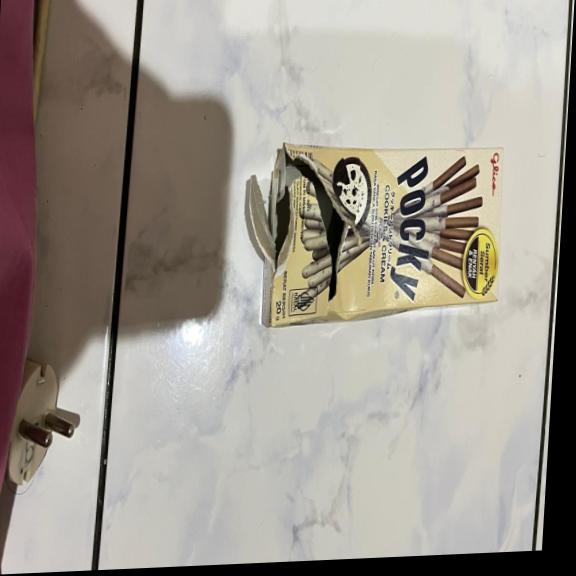Kertas: (268, 148, 506, 328)
